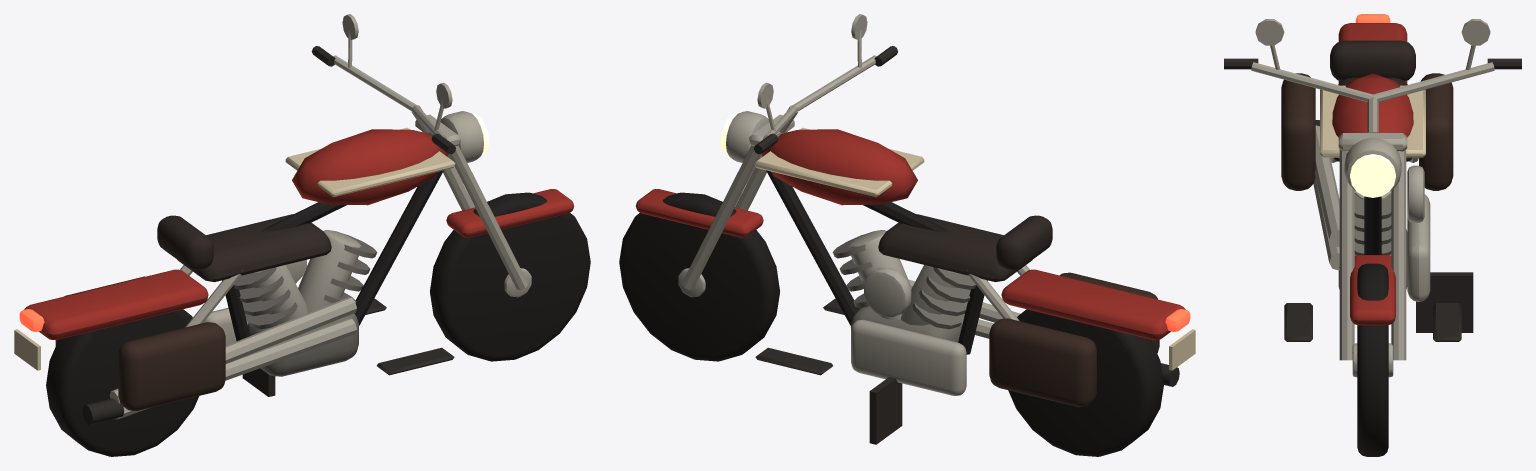
File: motorbike_cruiser_red.glb
3 renders of one model, left to right at view 1: azimuth 30°, elevation 25°; view 2: azimuth 150°, elevation 25°; view 3: azimuth 270°, elevation 25°, orthographic. The views are drawn at different scales.
Parts seen in each view (by area): view 1: MotoCruiser_Red, MotoCruiser_Red_Wheel_F, MotoCruiser_Red_Wheel_R; view 2: MotoCruiser_Red, MotoCruiser_Red_Wheel_F, MotoCruiser_Red_Wheel_R; view 3: MotoCruiser_Red, MotoCruiser_Red_Wheel_F.
Part boxes in pixels (<box>): MotoCruiser_Red: <box>14,14,573,424</box>; MotoCruiser_Red_Wheel_F: <box>430,192,590,361</box>; MotoCruiser_Red_Wheel_R: <box>46,309,199,456</box>; MotoCruiser_Red: <box>636,14,1195,444</box>; MotoCruiser_Red_Wheel_F: <box>619,192,779,361</box>; MotoCruiser_Red_Wheel_R: <box>1008,309,1163,456</box>; MotoCruiser_Red: <box>1224,14,1521,360</box>; MotoCruiser_Red_Wheel_F: <box>1352,263,1393,456</box>.
Size of the model in its own units: 2.49 by 1.42 by 1.04.
